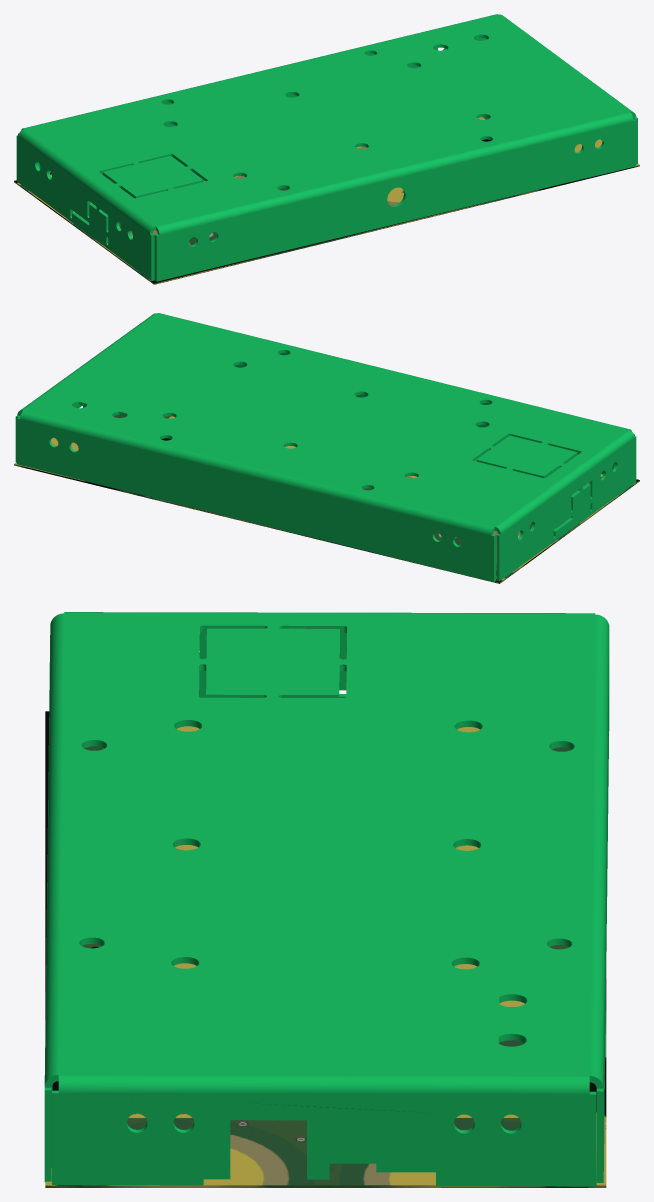
Rendered from array-3dmodel.glb.
The picture shows the model from 3 angles, top to bottom: view 1: azimuth 30°, elevation 25°; view 2: azimuth 150°, elevation 25°; view 3: azimuth 270°, elevation 25°; orthographic projection. The views are drawn at different scales.
Parts seen in each view (by area): view 1: Case, Cube; view 2: Case, Cube; view 3: Case, Cube.
Boxes of the visible parts, bbox=[...] form: Case: bbox=[16, 14, 637, 281]; Cube: bbox=[14, 117, 639, 284]; Case: bbox=[15, 313, 636, 582]; Cube: bbox=[14, 415, 639, 583]; Case: bbox=[44, 612, 609, 1186]; Cube: bbox=[45, 711, 606, 1187].
Bounding box in the file's own units: 0.2404 × 0.0252 × 0.1208.
Materials: 2 (1 with a texture image).
